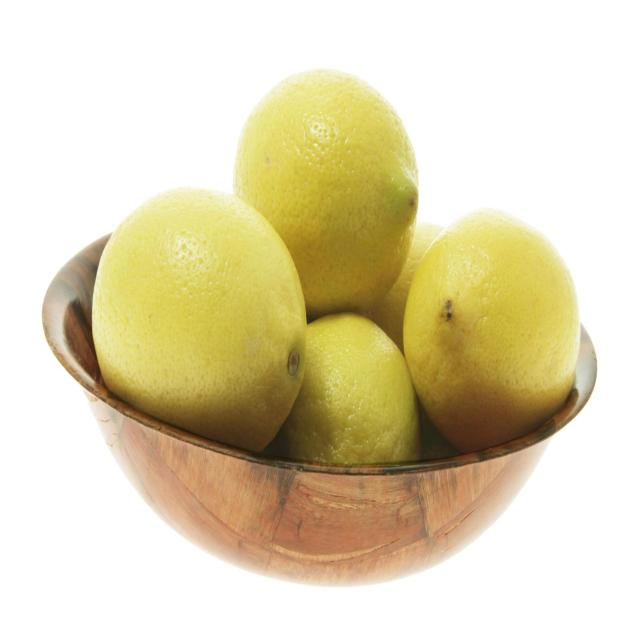lemon: (86, 181, 310, 454), (398, 202, 584, 459)
